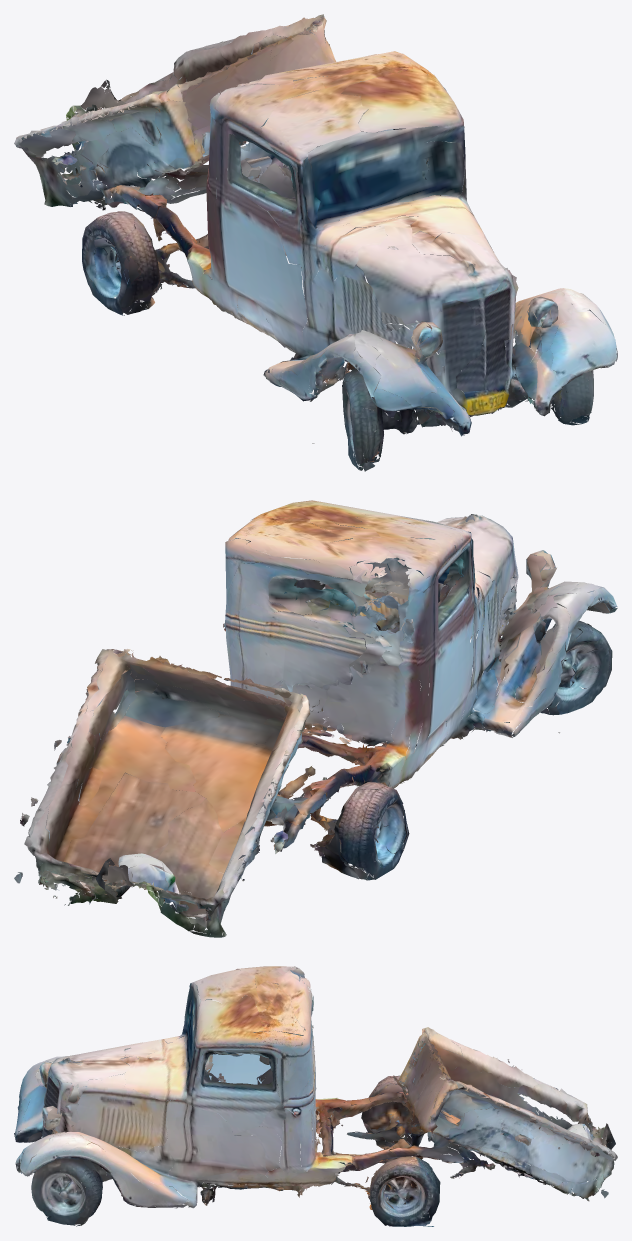
Rendered from day-200-international-pickup-truck-3031d1.glb.
The picture shows the model from 3 angles, top to bottom: view 1: azimuth 30°, elevation 25°; view 2: azimuth 150°, elevation 25°; view 3: azimuth 270°, elevation 25°; orthographic projection. The views are drawn at different scales.
Parts seen in each view (by area): view 1: body; view 2: body; view 3: body, wheel-front-left, wheel-back-left.
Part boxes in pixels (box(x1,y1,x2,y2)): body: box(14, 14, 617, 471); body: box(14, 500, 617, 937); body: box(14, 966, 617, 1226); wheel-front-left: box(30, 1156, 88, 1212); wheel-back-left: box(371, 1165, 427, 1225).
Size of the model in its own units: 2.57 by 2.39 by 6.88.
Materials: 1 (1 with a texture image).
